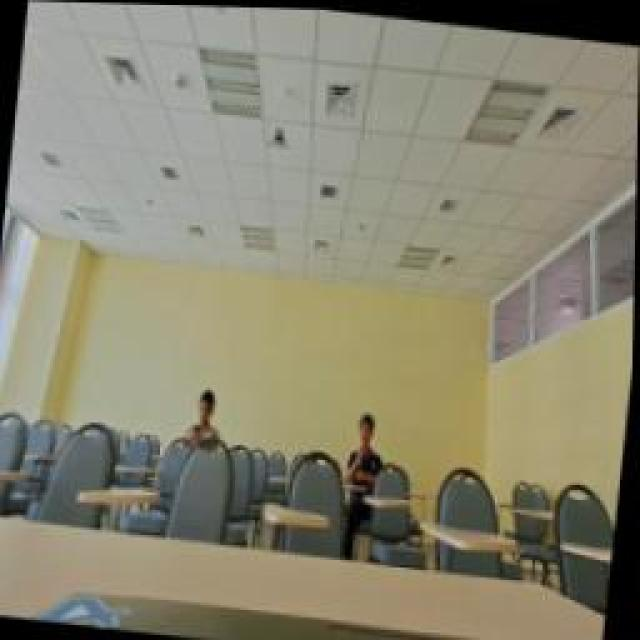phone: (183, 385, 225, 455)
study: (345, 408, 390, 488)
